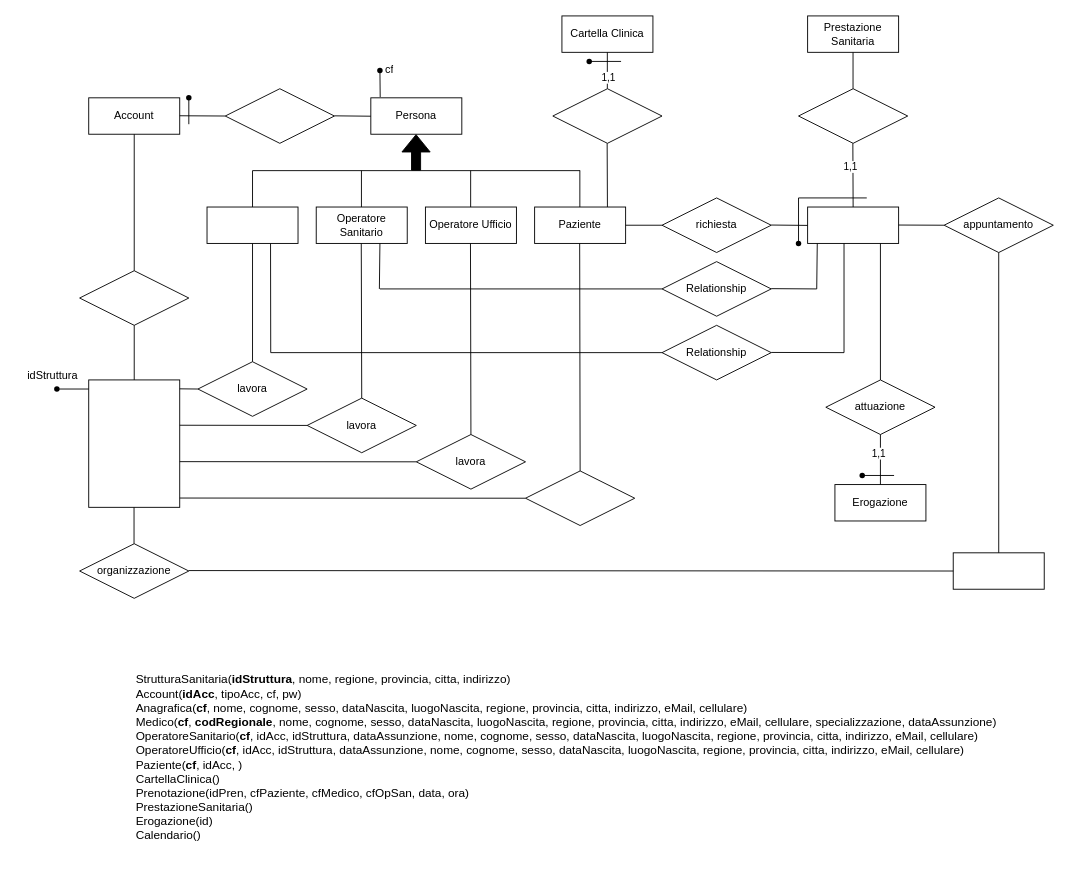
This 1069x887 diagram has some shape labels left out. Here are the shapes that lost their labels. From the top down, the centre of each, then its label:
At pixel 279 115: "creazione".
At pixel 607 115: "possiede".
At pixel 853 115: "riguarda".
At pixel 252 224: "Medico".
At pixel 853 224: "Prenotazione".
At pixel 134 297: "gestione".
At pixel 134 443: "Struttura Sanitaria".
At pixel 580 498: "cliente".
At pixel 998 570: "Calendario".
